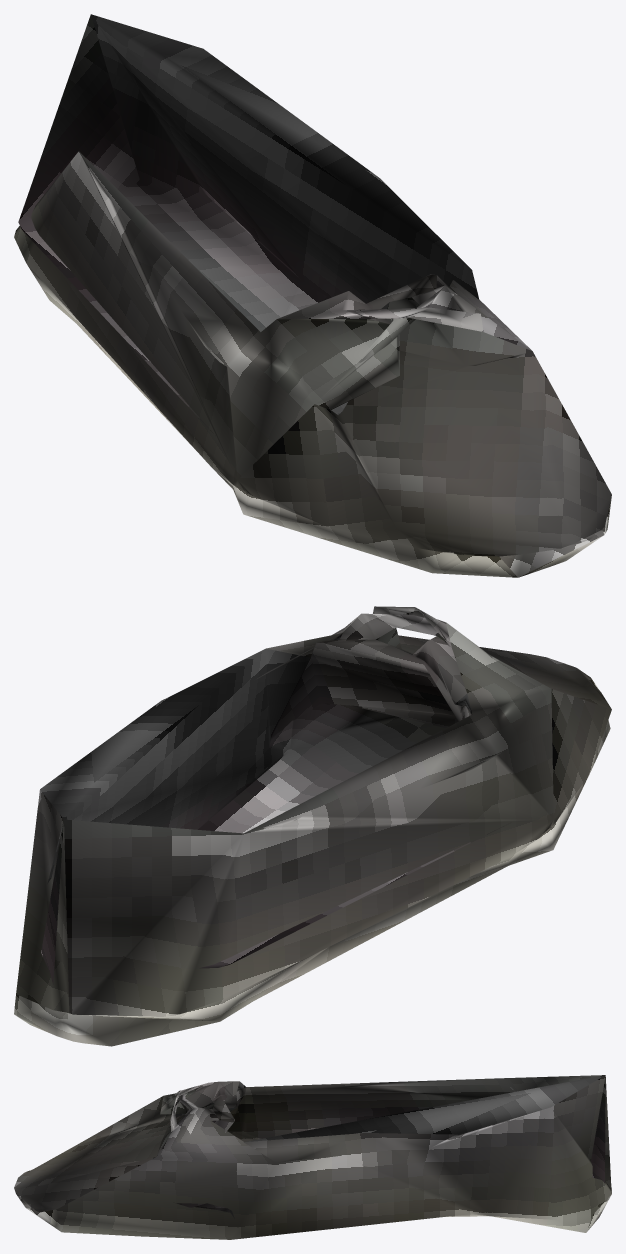
File: Womens_Audrey_Slip_On_Boat_Shoe_in_Graphite_Nubuck_xWVkCJ5vxZe-low.glb
3 renders of one model, top to bottom at view 1: azimuth 30°, elevation 25°; view 2: azimuth 150°, elevation 25°; view 3: azimuth 270°, elevation 25°, orthographic. The views are drawn at different scales.
Visible parts, largest first — view 1: Womens_Audrey_Slip_On_Boat_Shoe_in_Graphite_Nubuck_xWVkCJ5vx; view 2: Womens_Audrey_Slip_On_Boat_Shoe_in_Graphite_Nubuck_xWVkCJ5vx; view 3: Womens_Audrey_Slip_On_Boat_Shoe_in_Graphite_Nubuck_xWVkCJ5vx.
Part boxes in pixels (<box>): Womens_Audrey_Slip_On_Boat_Shoe_in_Graphite_Nubuck_xWVkCJ5vx: <box>14,14,611,577</box>; Womens_Audrey_Slip_On_Boat_Shoe_in_Graphite_Nubuck_xWVkCJ5vx: <box>14,606,611,1046</box>; Womens_Audrey_Slip_On_Boat_Shoe_in_Graphite_Nubuck_xWVkCJ5vx: <box>14,1075,611,1239</box>.
Bounding box in the file's own units: 0.0794 × 0.0632 × 0.2416.
1 material, 1 textured.
